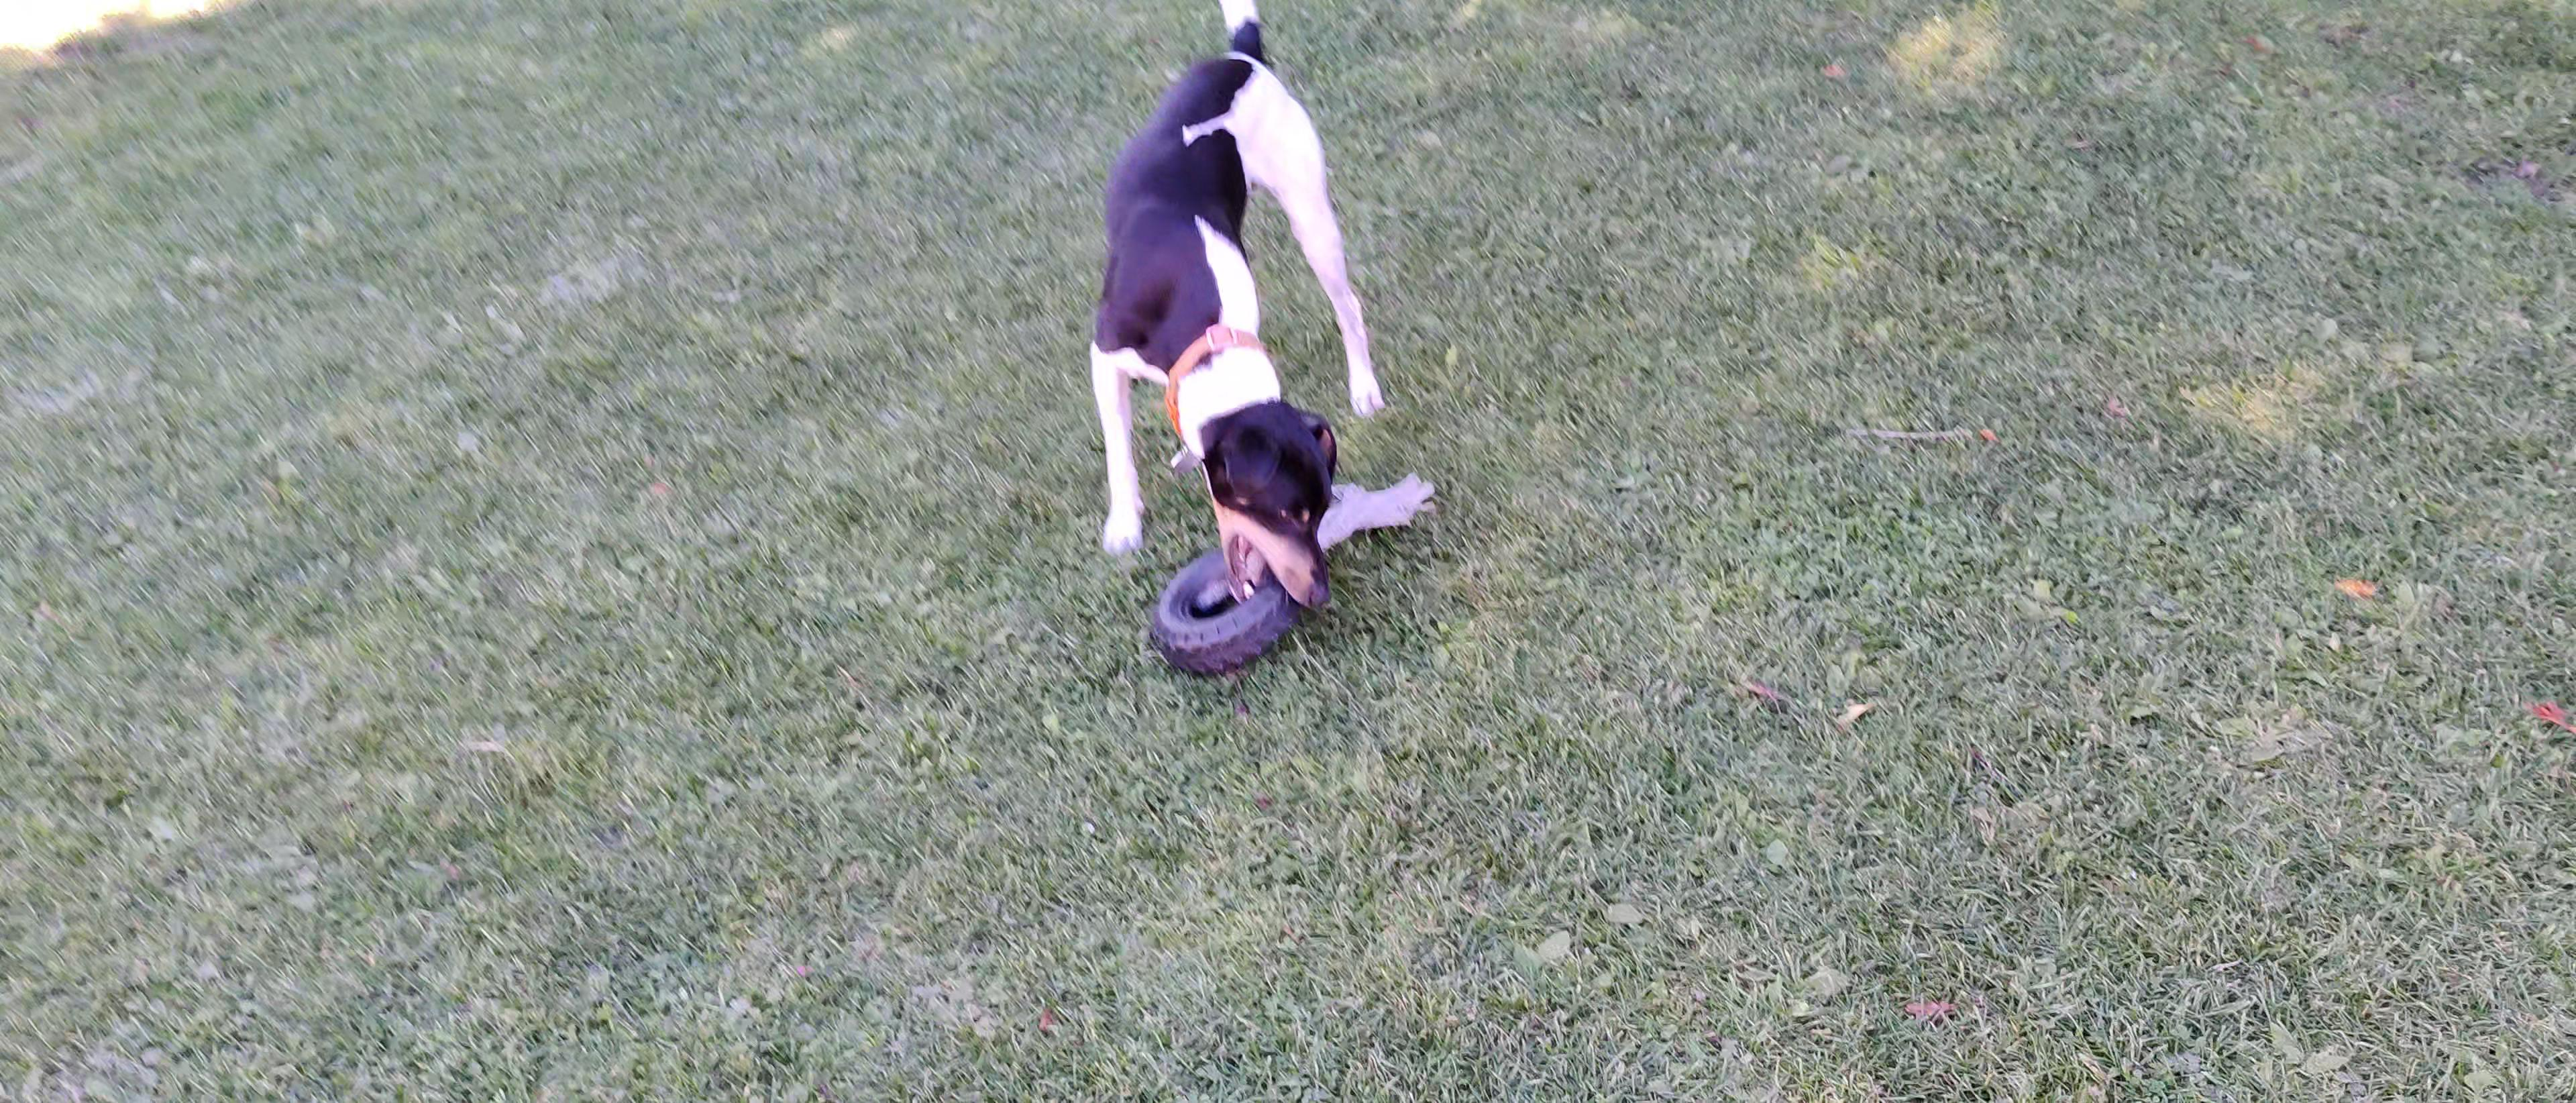Dog: (1071, 0, 1398, 613)
